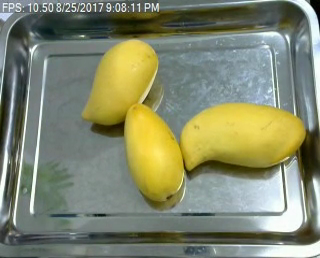Mango: (180, 102, 309, 172), (78, 35, 158, 128), (122, 102, 183, 207)
